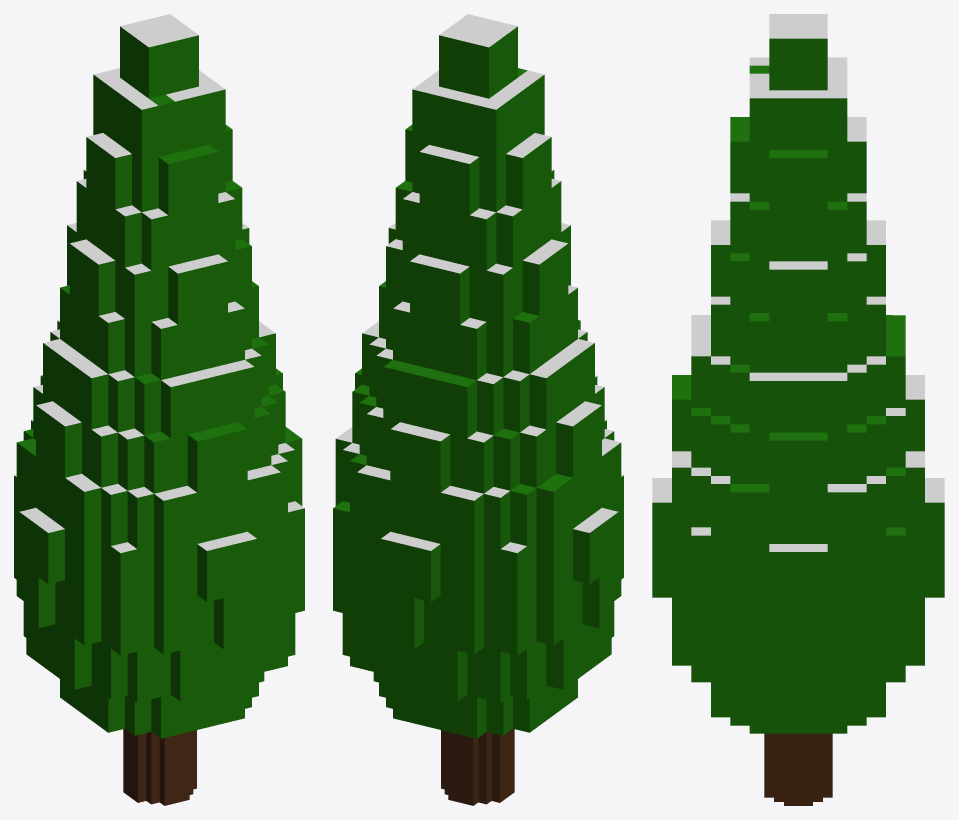
File: arbre3_snow.fbx
The picture shows the model from 3 angles, left to right: view 1: azimuth 30°, elevation 25°; view 2: azimuth 150°, elevation 25°; view 3: azimuth 270°, elevation 25°; orthographic projection.
Parts seen in each view (by area): view 1: Cylinder.002; view 2: Cylinder.002; view 3: Cylinder.002.
Part boxes in pixels (x1,y1,x2,y2): Cylinder.002: (14,14,304,805); Cylinder.002: (333,14,623,805); Cylinder.002: (652,14,944,805).
Bounding box in the file's own units: 248 × 717 × 248.
